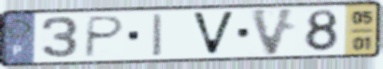3: (38, 15, 82, 60)
8: (301, 8, 341, 54)
I: (151, 12, 165, 59)
P: (82, 14, 128, 59)
V: (248, 7, 299, 58), (189, 10, 238, 58)
